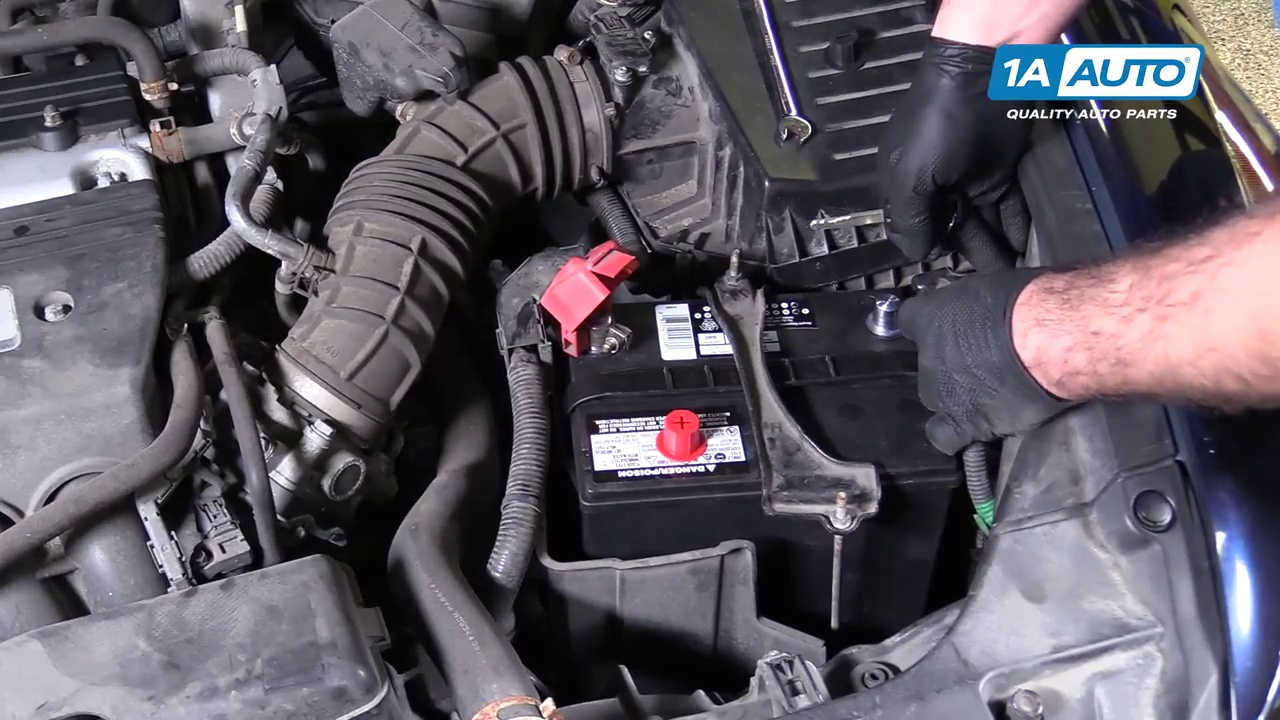battery: (545, 266, 947, 487)
neg_disconnected: (835, 251, 928, 356)
neg_touched: (838, 189, 995, 392)
pos_connected: (527, 249, 658, 365)
